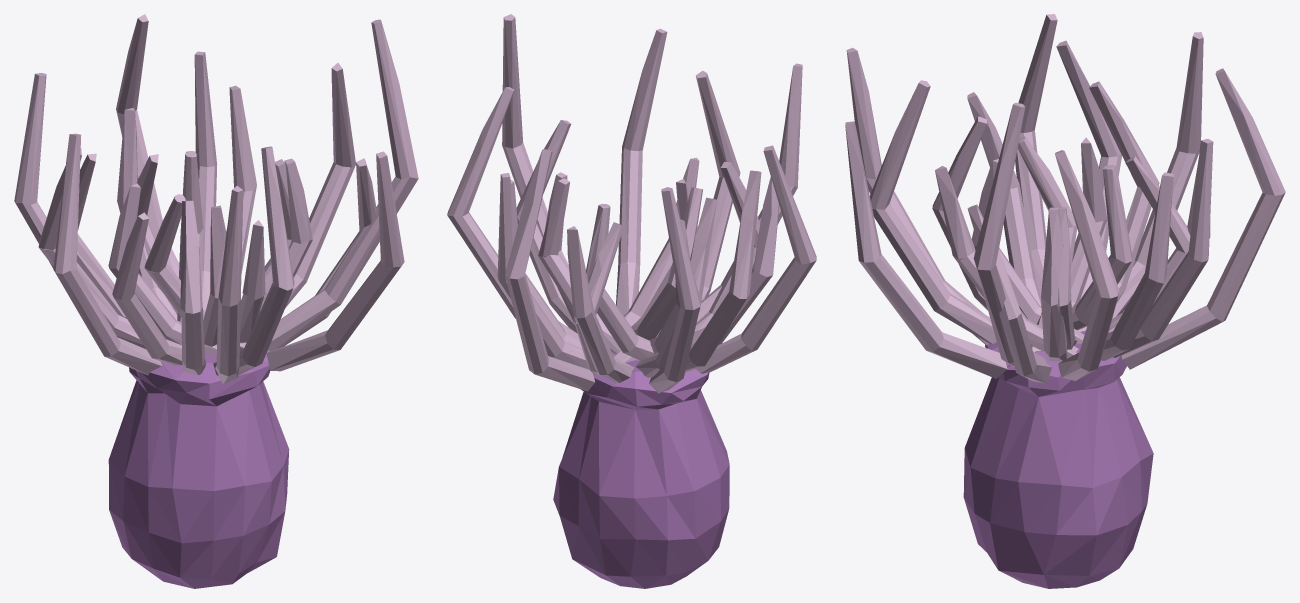
The model's file is anemone.fbx.
3 renders of one model, left to right at view 1: azimuth 30°, elevation 25°; view 2: azimuth 150°, elevation 25°; view 3: azimuth 270°, elevation 25°, orthographic. The views are drawn at different scales.
Parts seen in each view (by area): view 1: Anemone; view 2: Anemone; view 3: Anemone.
Part boxes in pixels (box(x1,y1,x2,y2)): Anemone: box(14, 14, 418, 588); Anemone: box(447, 14, 816, 588); Anemone: box(845, 14, 1285, 588).
Bounding box in the file's own units: 0.6843 × 1 × 0.7331.
